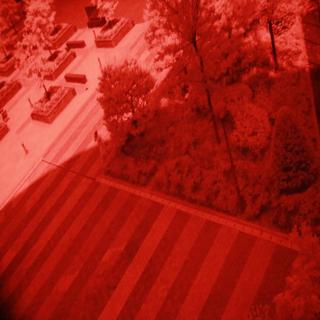person: (86, 124, 108, 167)
